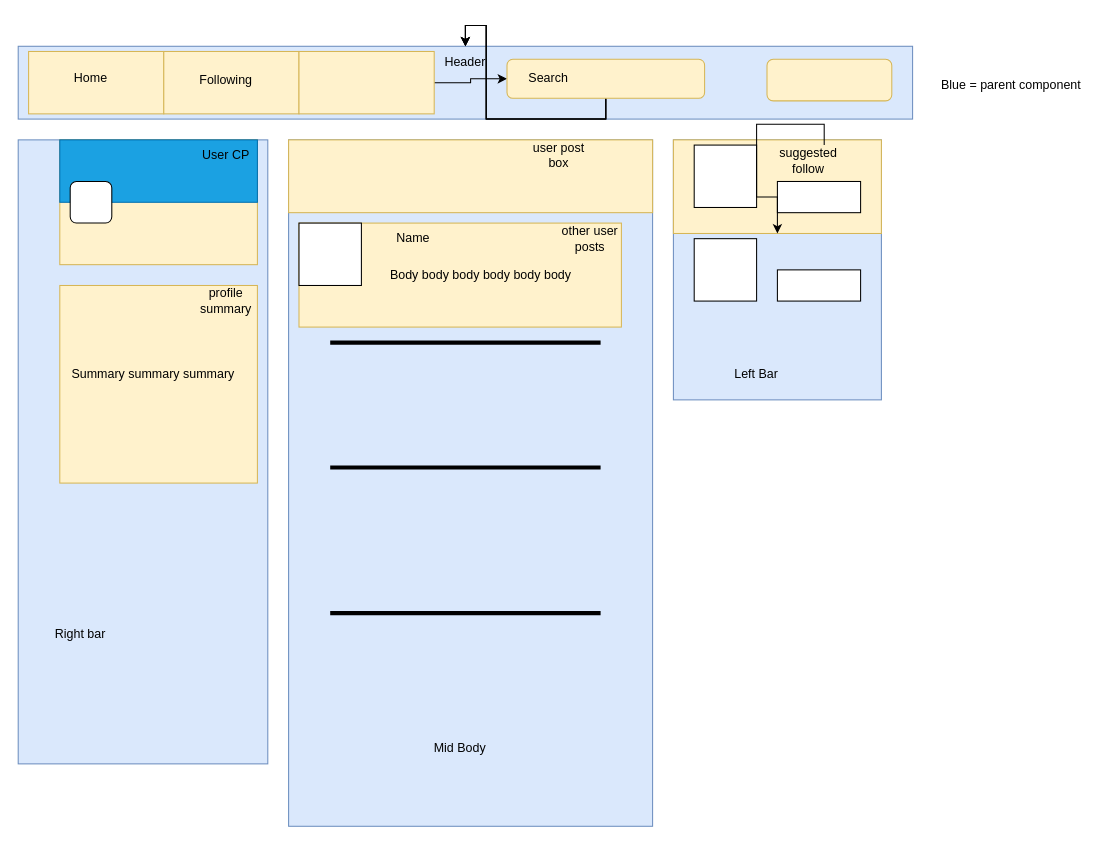
Some shapes in this 1108 by 844 pixel diagram are drawn without their labels. Each missing label, with the centre of its shape:
"Followers" goes at point (366, 82).
"Post" goes at point (829, 79).
